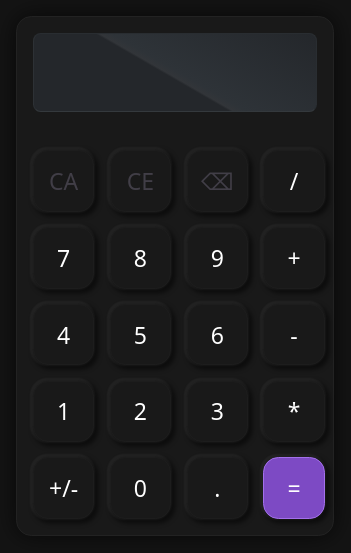
it: Calculator component tests › Numeros funcionan con click
The width and height of the screenshot is (351, 553).
Click the button "1".
click(64, 411)  # box [33,381,94,442]
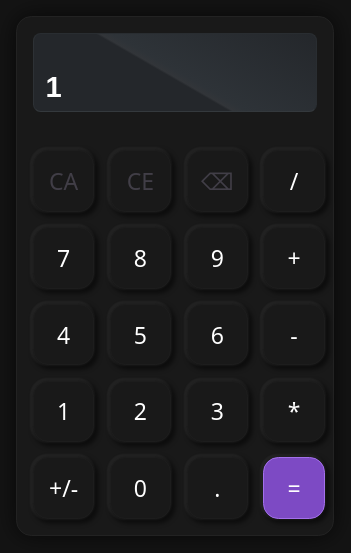
Result: the heading "1" is shown at [45,71,62,103]
Click the button "2".
click(140, 411)  # box [110,381,171,442]
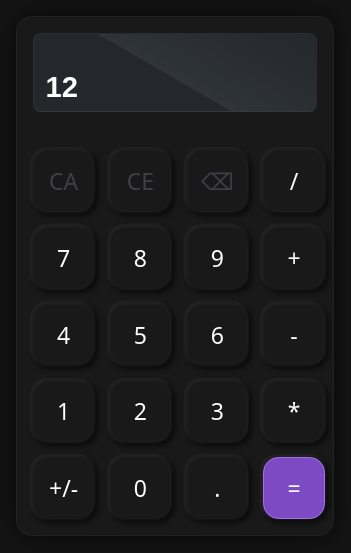
Result: the heading "12" is shown at [45,71,78,103]
